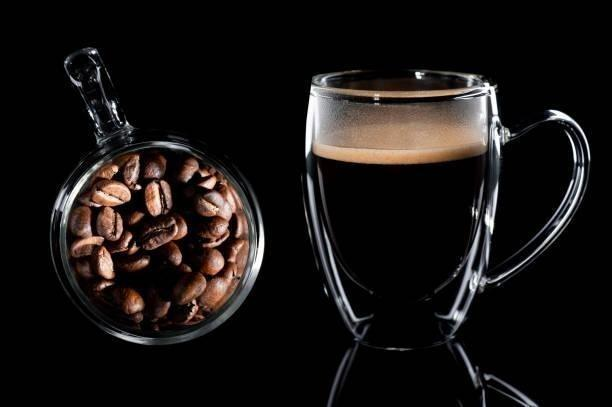glass-mug: (296, 61, 593, 357)
